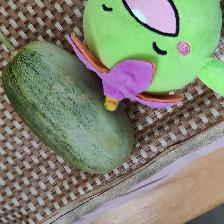gua: (27, 62, 97, 152)
